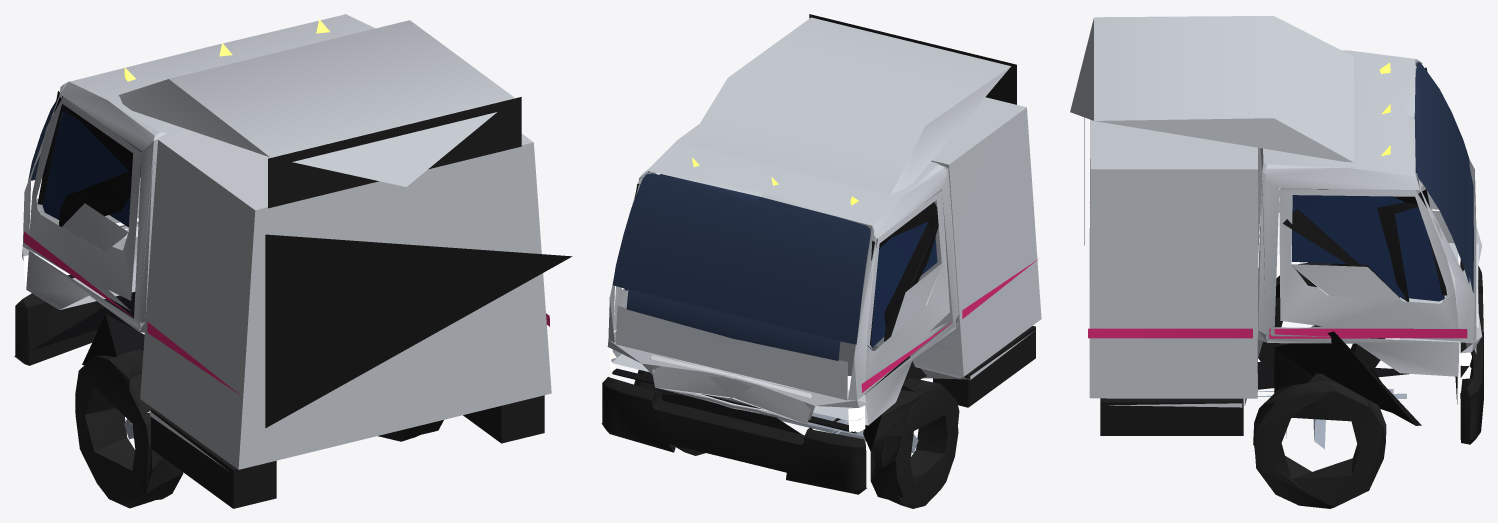
File: cab_chata_lod2.glb
3 renders of one model, left to right at view 1: azimuth 30°, elevation 25°; view 2: azimuth 150°, elevation 25°; view 3: azimuth 270°, elevation 25°, orthographic. The views are drawn at different scales.
Parts seen in each view (by area): view 1: lod2_paint_white_panel, lod2_plastic_black, lod2_plastic_trim, lod2_rubber_tire, lod2_glass, lod2_paint_pink; view 2: lod2_paint_white_panel, lod2_glass_wind, lod2_plastic_trim, lod2_rubber_tire, lod2_plastic_black, lod2_chrome, lod2_glass, lod2_paint_pink, lod2_steel, lod2_lamp_white; view 3: lod2_paint_white_panel, lod2_rubber_tire, lod2_plastic_black, lod2_glass, lod2_plastic_trim, lod2_glass_wind, lod2_paint_pink, lod2_chrome, lod2_steel.
Boxes of the visible parts, bbox=[...] form: lod2_paint_white_panel: bbox=[22, 14, 551, 469]; lod2_plastic_black: bbox=[31, 91, 572, 428]; lod2_plastic_trim: bbox=[14, 97, 544, 508]; lod2_rubber_tire: bbox=[75, 349, 443, 508]; lod2_glass: bbox=[42, 112, 130, 227]; lod2_paint_pink: bbox=[23, 231, 549, 395]; lod2_paint_white_panel: bbox=[607, 17, 1041, 425]; lod2_glass_wind: bbox=[612, 173, 870, 360]; lod2_plastic_trim: bbox=[601, 14, 1035, 494]; lod2_rubber_tire: bbox=[676, 377, 959, 508]; lod2_plastic_black: bbox=[612, 183, 938, 451]; lod2_chrome: bbox=[650, 332, 1032, 424]; lod2_glass: bbox=[624, 174, 937, 348]; lod2_paint_pink: bbox=[861, 259, 1037, 392]; lod2_steel: bbox=[777, 412, 918, 453]; lod2_lamp_white: bbox=[609, 348, 865, 432]; lod2_paint_white_panel: bbox=[1070, 16, 1482, 405]; lod2_rubber_tire: bbox=[1253, 262, 1386, 508]; lod2_plastic_black: bbox=[1084, 67, 1472, 425]; lod2_glass: bbox=[1292, 164, 1444, 301]; lod2_plastic_trim: bbox=[1100, 262, 1483, 444]; lod2_glass_wind: bbox=[1414, 62, 1473, 292]; lod2_paint_pink: bbox=[1088, 202, 1467, 338]; lod2_chrome: bbox=[1109, 242, 1478, 407]; lod2_steel: bbox=[1257, 325, 1406, 449].
Bounding box in the file's own units: 2.53 × 3.13 × 3.09.
Materials: 11 (4 with a texture image).
